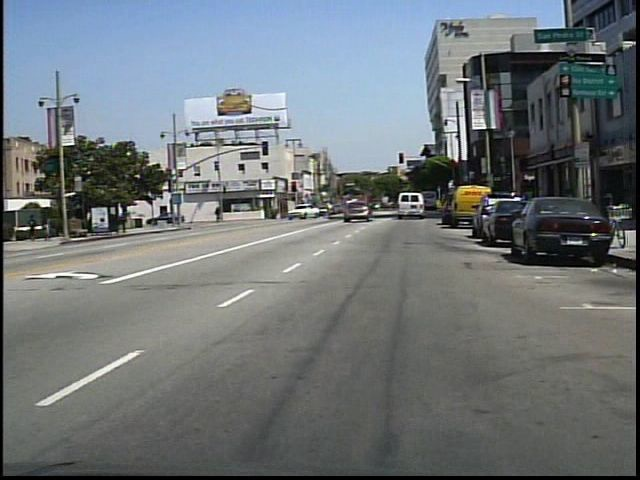person: (43, 214, 60, 245), (30, 212, 44, 243), (217, 205, 225, 225)
